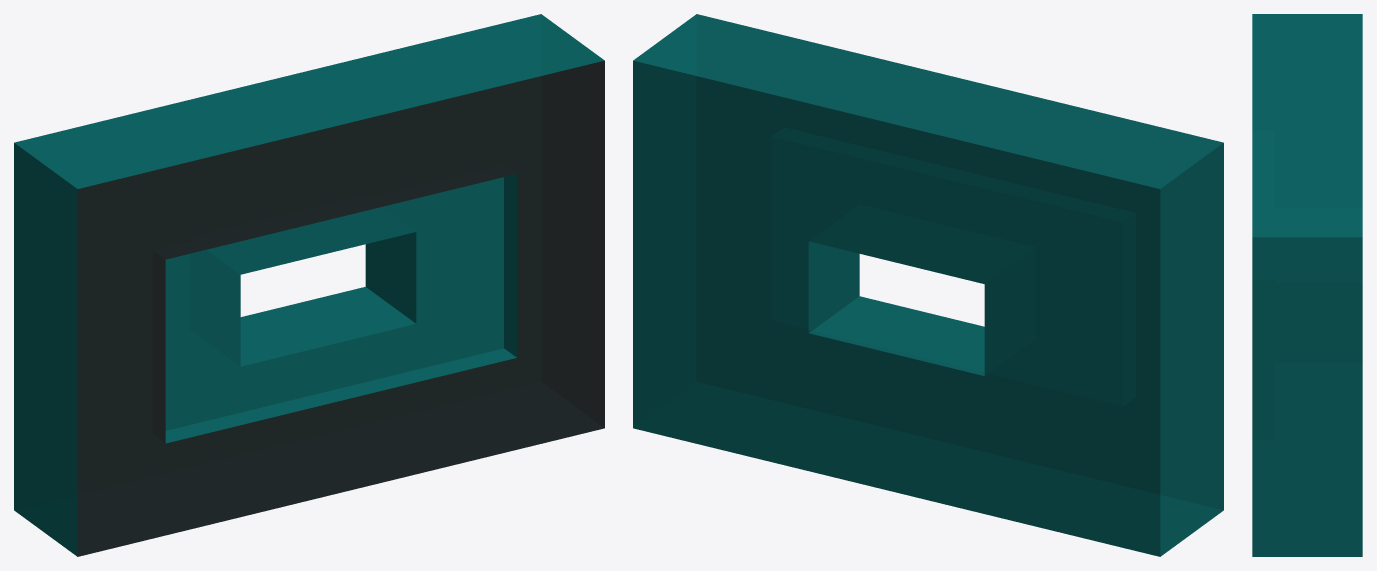
The picture shows the model from 3 angles, left to right: view 1: azimuth 30°, elevation 25°; view 2: azimuth 150°, elevation 25°; view 3: azimuth 270°, elevation 25°; orthographic projection. The views are drawn at different scales.
Visible parts, largest first — view 1: group_0 (×4); view 2: group_0 (×2); view 3: group_0.
Boxes of the visible parts, box(x1,y1,x2,y2) form: group_0 (×4): box(14, 14, 604, 556); group_0 (×2): box(633, 14, 1223, 556); group_0: box(1252, 14, 1362, 556).
Bounding box in the file's own units: 2362 × 494 × 1575.
